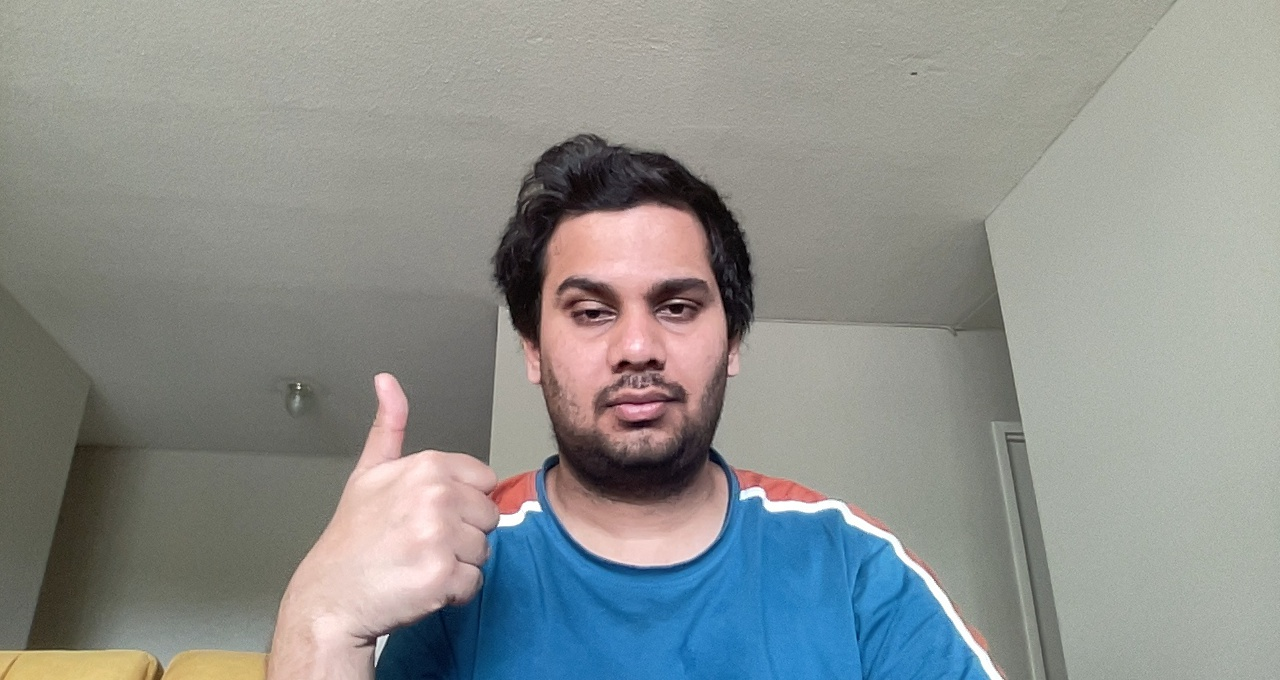thumbsup: (334, 366, 513, 617)
